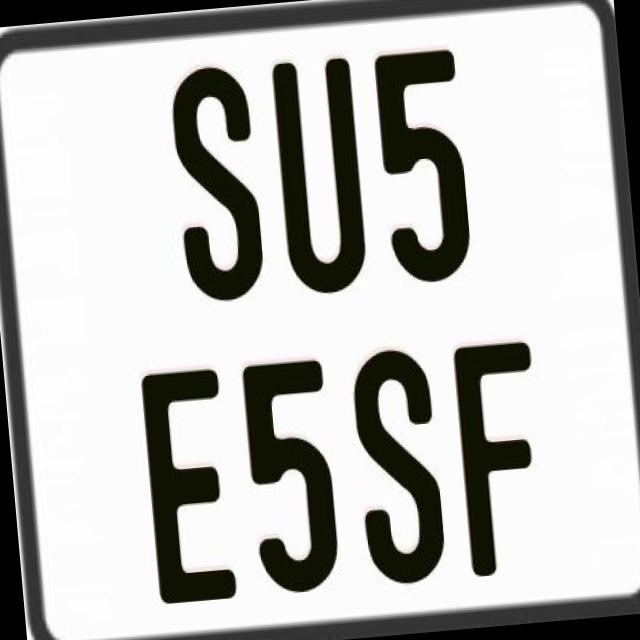5: (369, 44, 474, 288), (240, 354, 343, 598)
E: (140, 367, 241, 607)
F: (449, 340, 554, 584)
S: (350, 344, 452, 584), (167, 63, 266, 309)
U: (268, 54, 366, 294)
